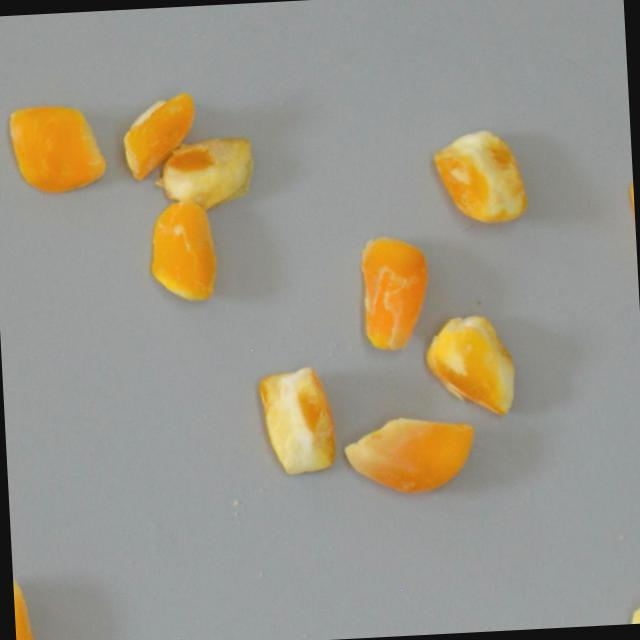no_canjicado: (9, 103, 109, 194)
pelicula: (344, 412, 479, 496), (424, 312, 521, 420), (355, 231, 436, 353), (429, 129, 528, 227), (258, 366, 337, 476), (155, 135, 259, 212), (149, 198, 220, 304), (122, 91, 199, 181), (13, 572, 36, 640)
